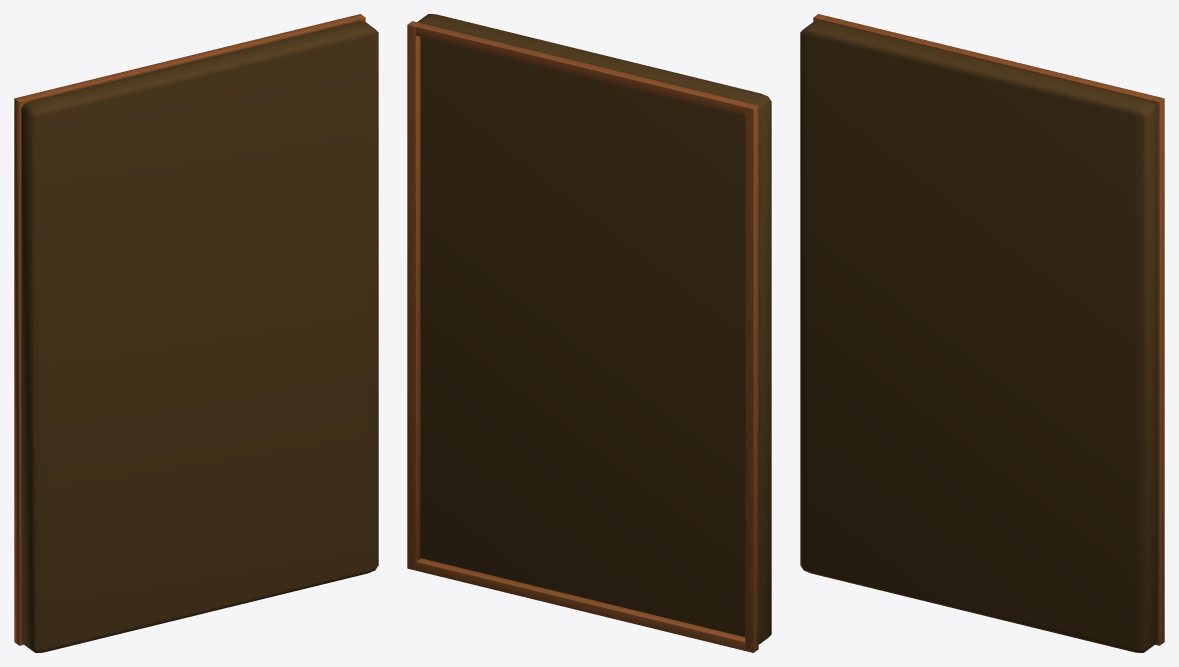
File: SM_Wall2x1.fbx
The picture shows the model from 3 angles, left to right: view 1: azimuth 30°, elevation 25°; view 2: azimuth 150°, elevation 25°; view 3: azimuth 330°, elevation 25°; orthographic projection.
Visible parts, largest first — view 1: Wall2x1; view 2: Wall2x1; view 3: Wall2x1.
Part boxes in pixels (x1,y1,x2,y2): Wall2x1: (14,14,378,652); Wall2x1: (407,14,771,652); Wall2x1: (800,14,1164,652).
Size of the model in its own units: 19.9 by 200 by 300.
